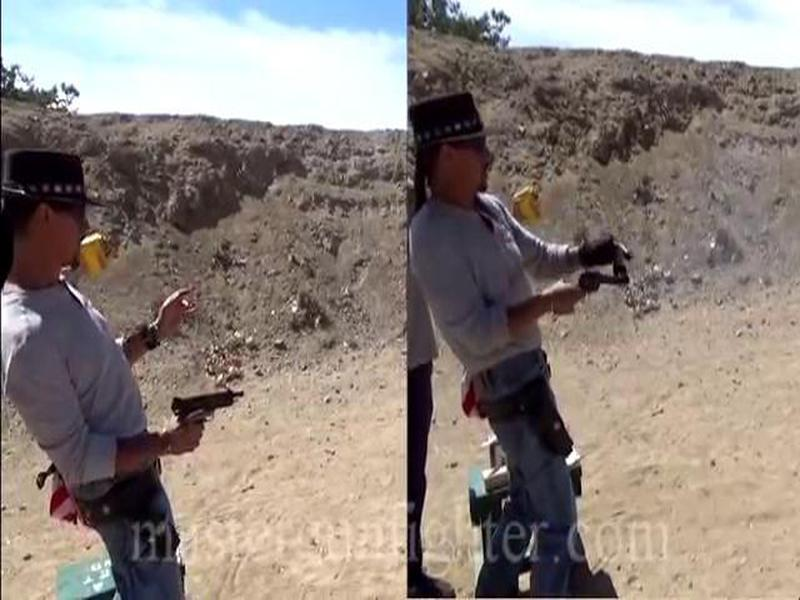Pistola: (151, 374, 252, 454)
Revolver: (558, 258, 642, 321)
